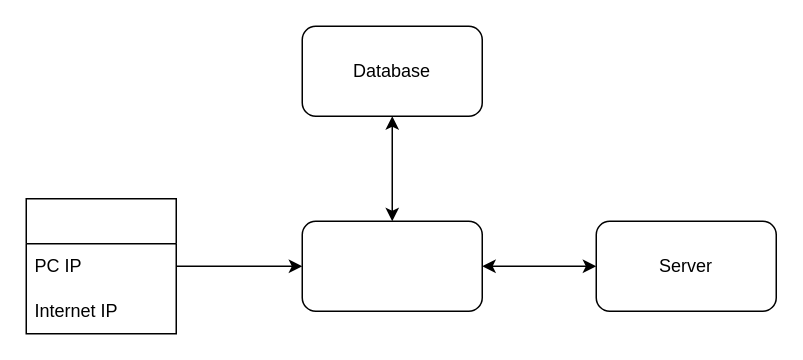
This 803x360 diagram has some shape labels left out. The shapes that lost their labels are listed below. From the top down, each one's box as (x1, y1, x2, y2) in pixels, then its label:
(25, 197, 176, 334): Client
(301, 220, 482, 311): Chat interface
